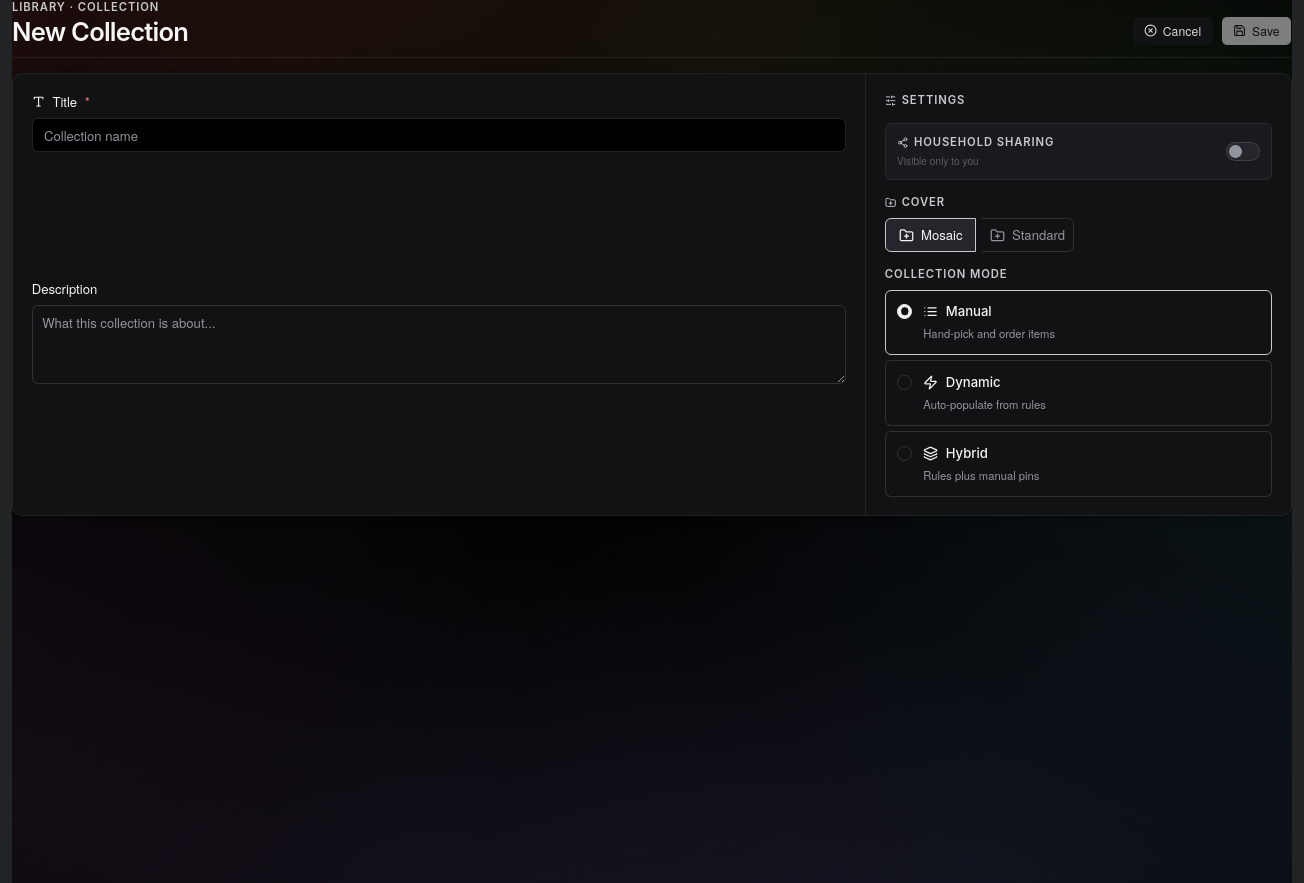
it: collection rule preview › does not restore an old preview after a rule becomes incomplete
Type "Draft" into the field labelled "Title *" at (439, 135), box [32,118,846,152]
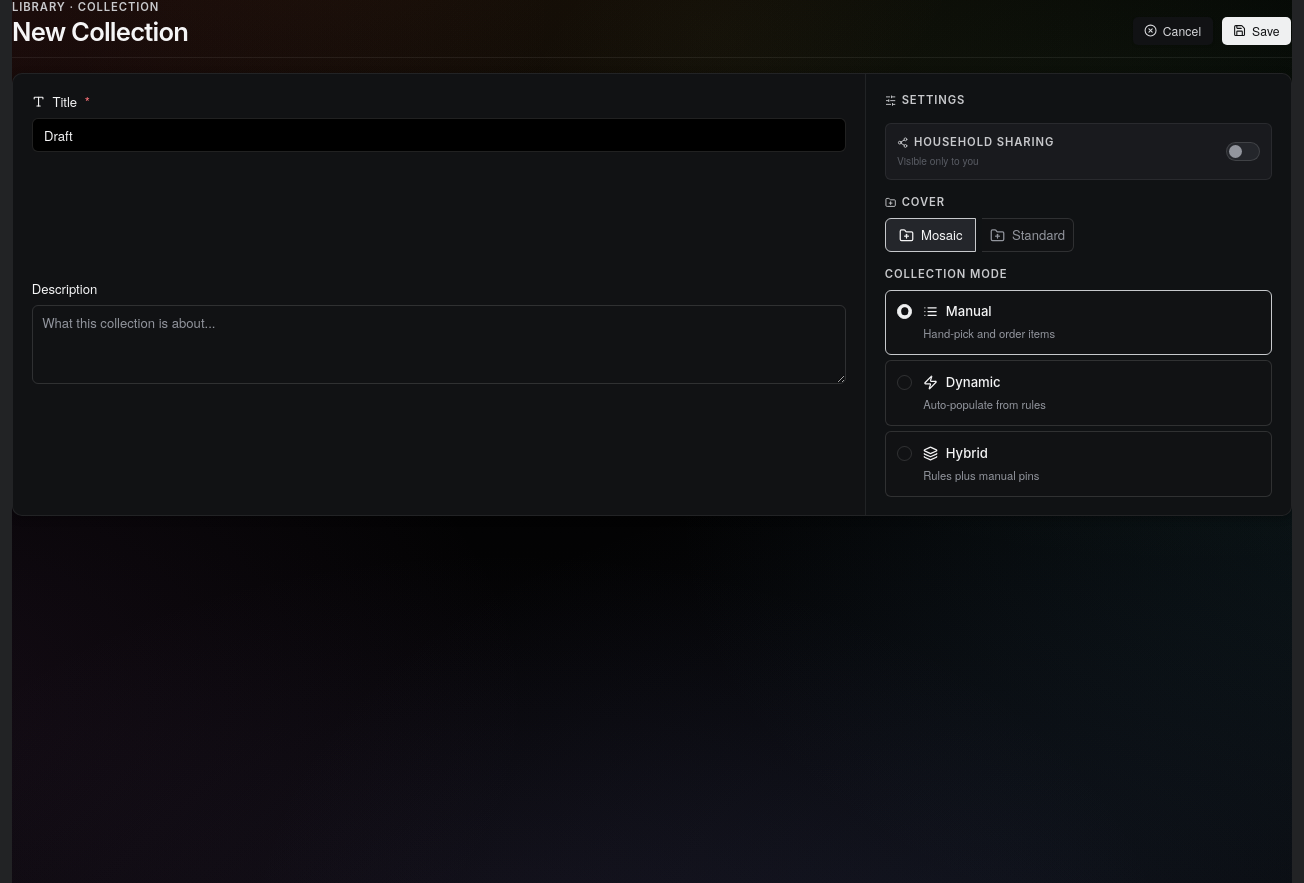
Click the radio button named "Dynamic" at (904, 382), box [897,375,912,390]
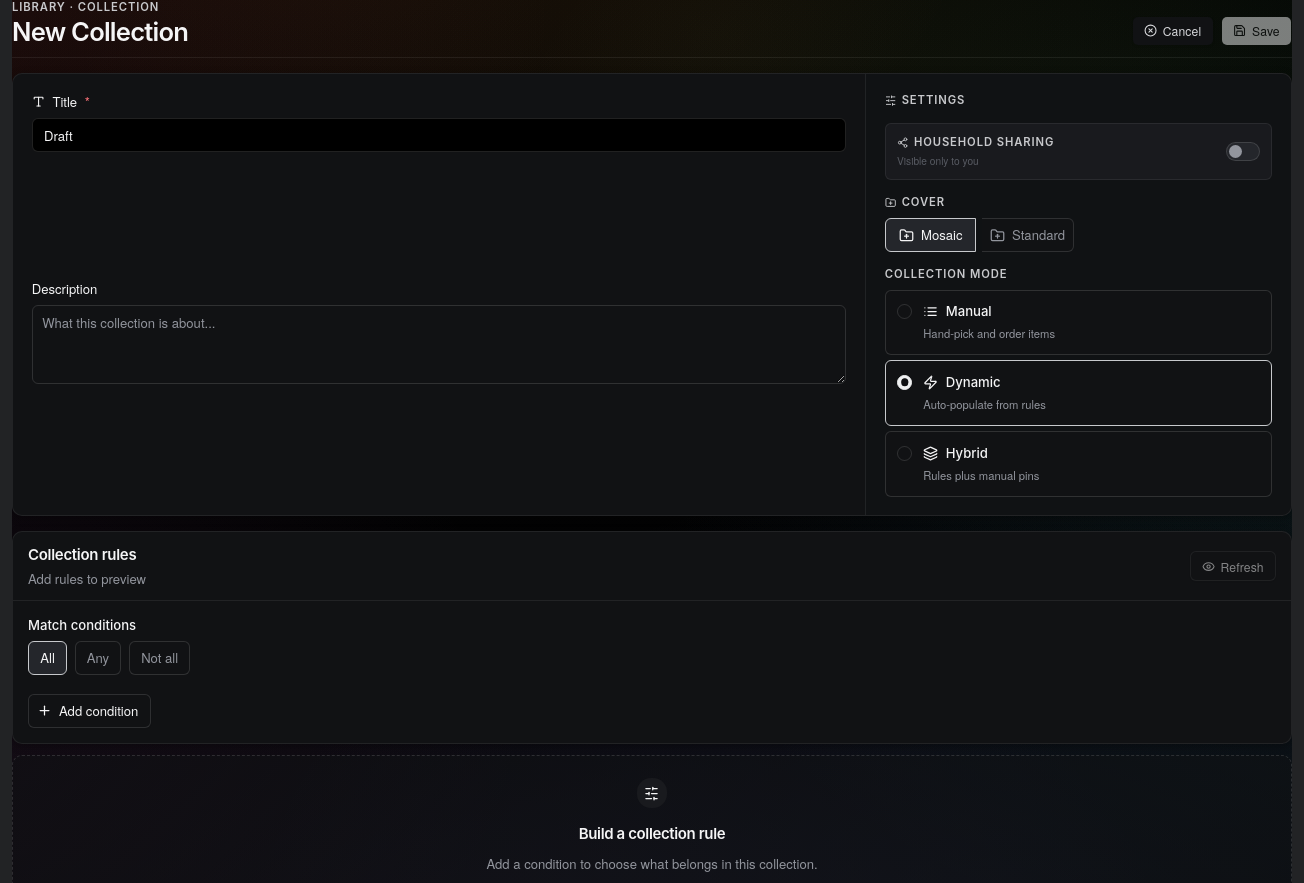
Click the button "Add condition" at (89, 711), box [28,694,151,728]
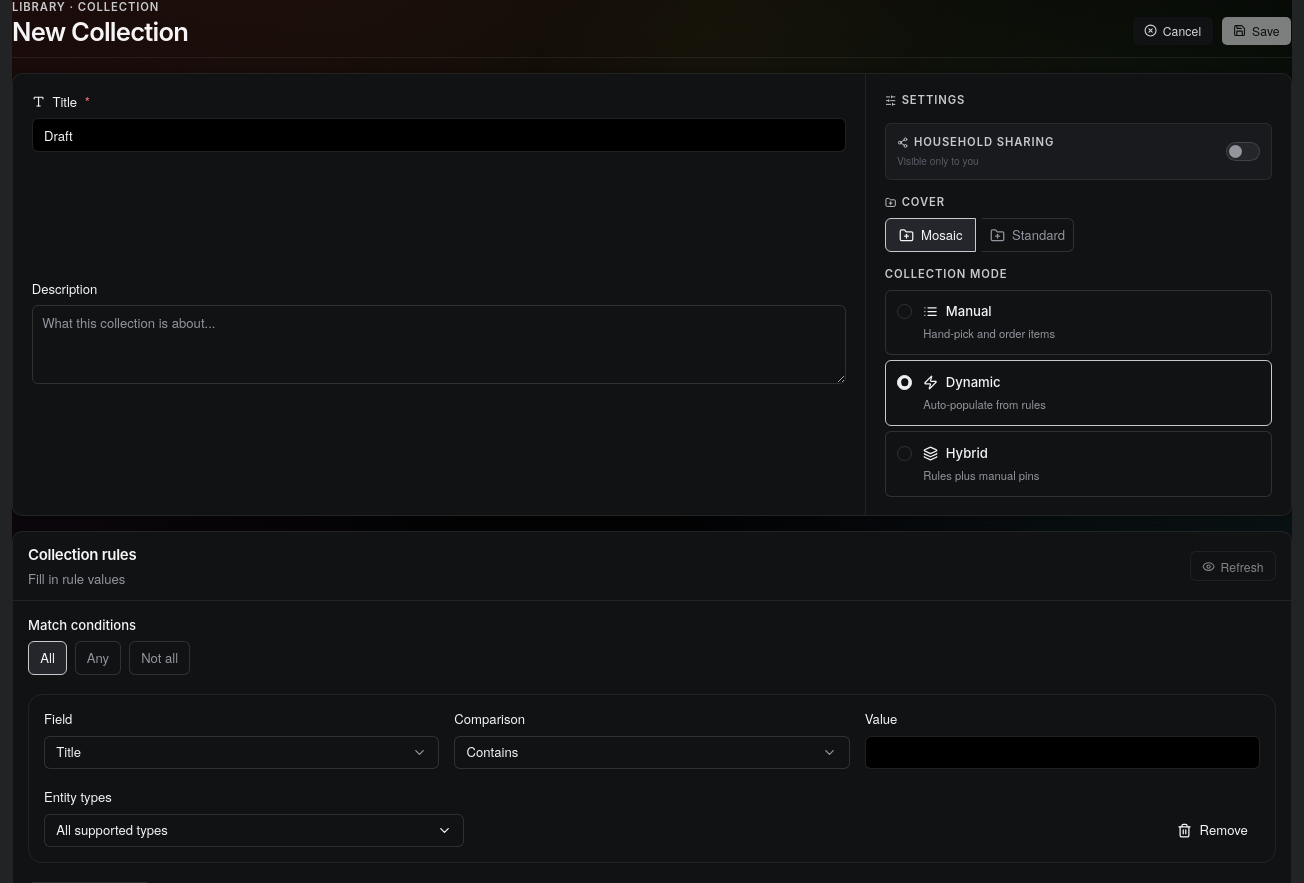
Type "cats" into the field named "Text value" at (1062, 752), box [865,736,1260,769]
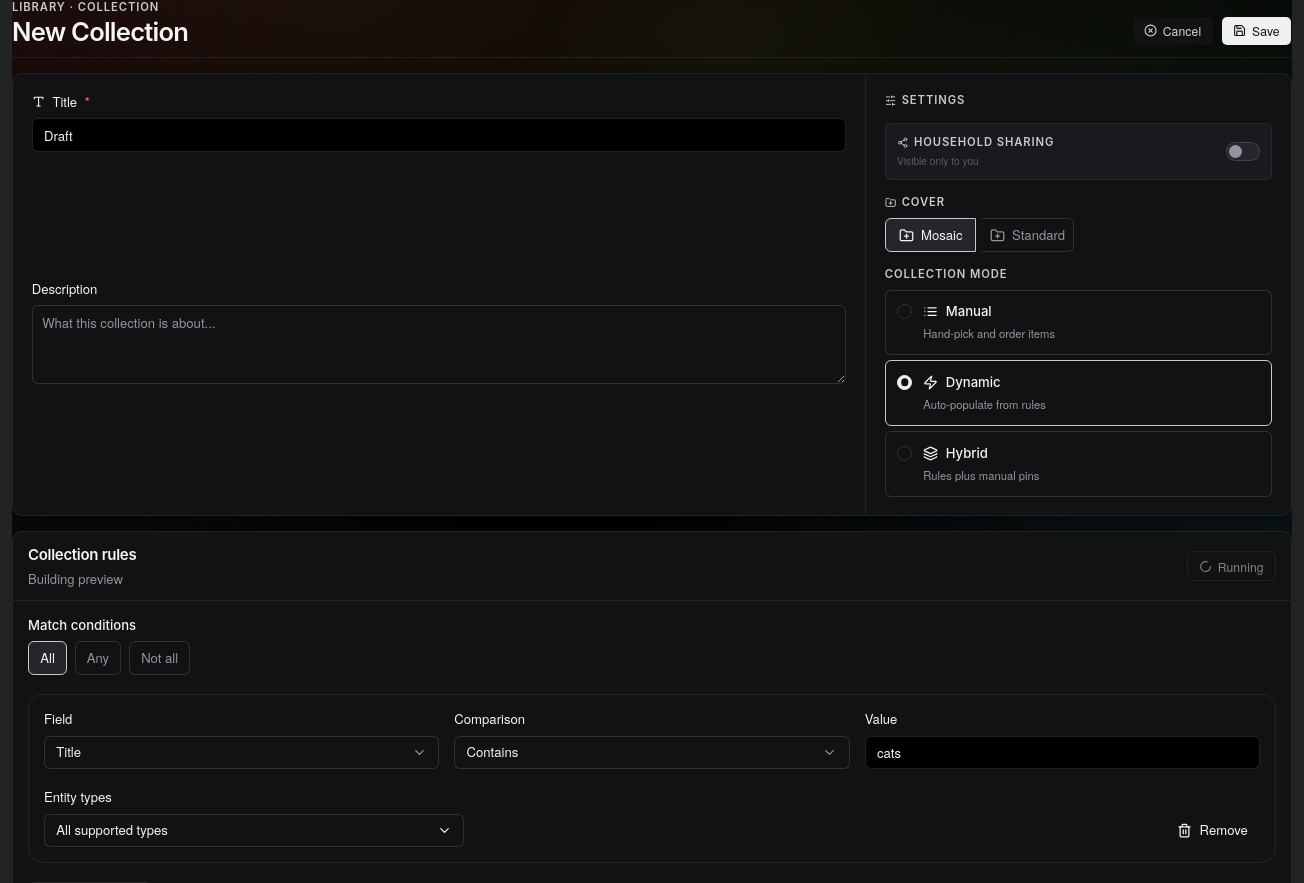
Clear the field named "Text value" at (1062, 752), box [865,736,1260,769]
(page scrolled)
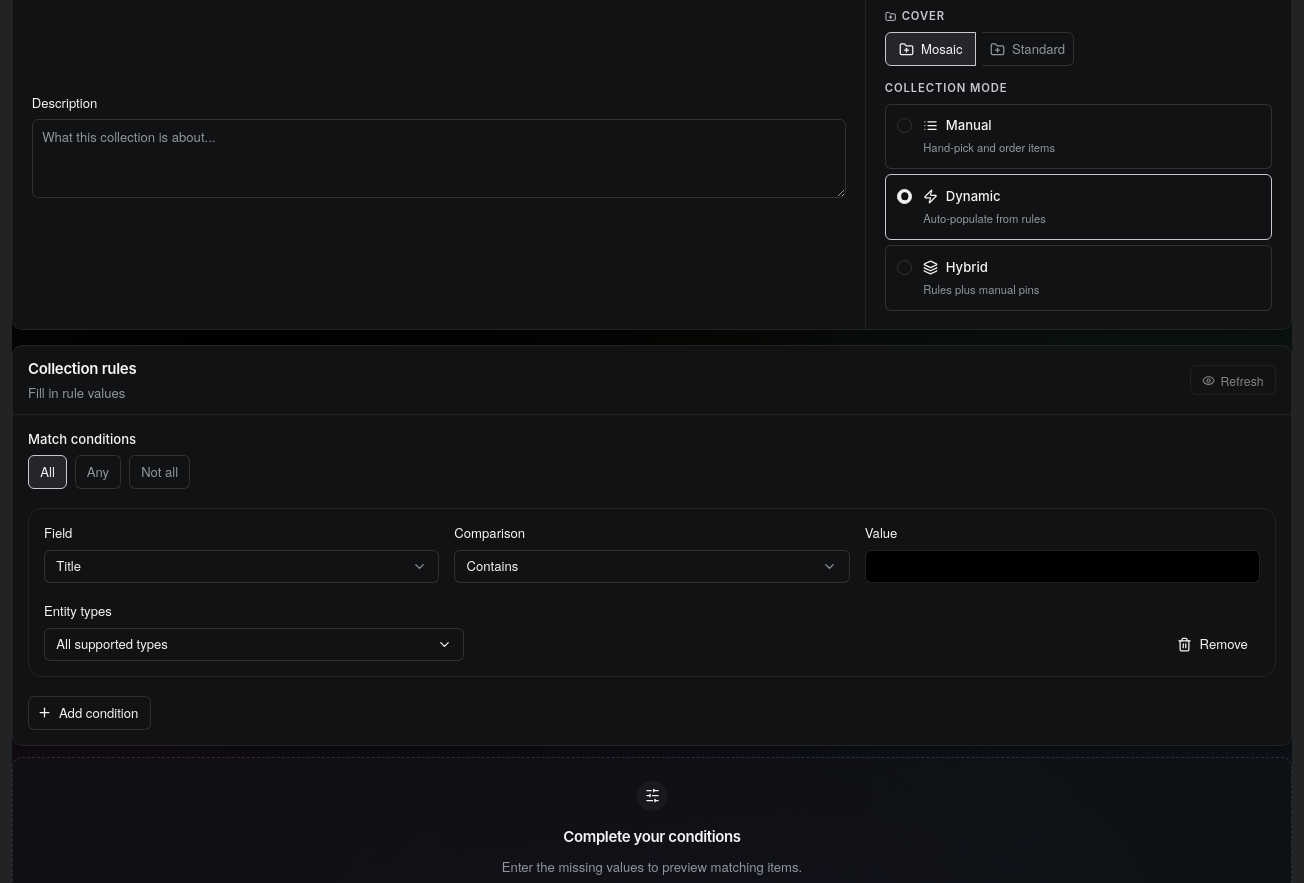
Now the text "Complete your conditions" is shown, box [563,826,741,848]
